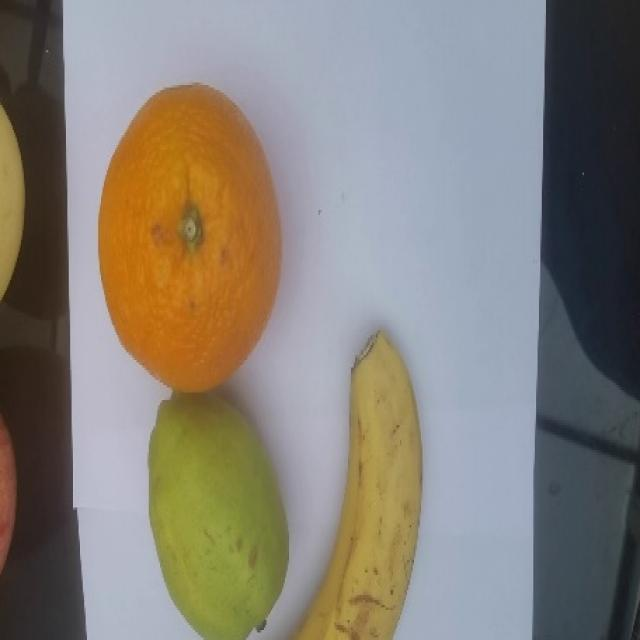Apple: (0, 411, 24, 578)
Banana: (294, 331, 429, 640)
Orange: (92, 82, 286, 398)
